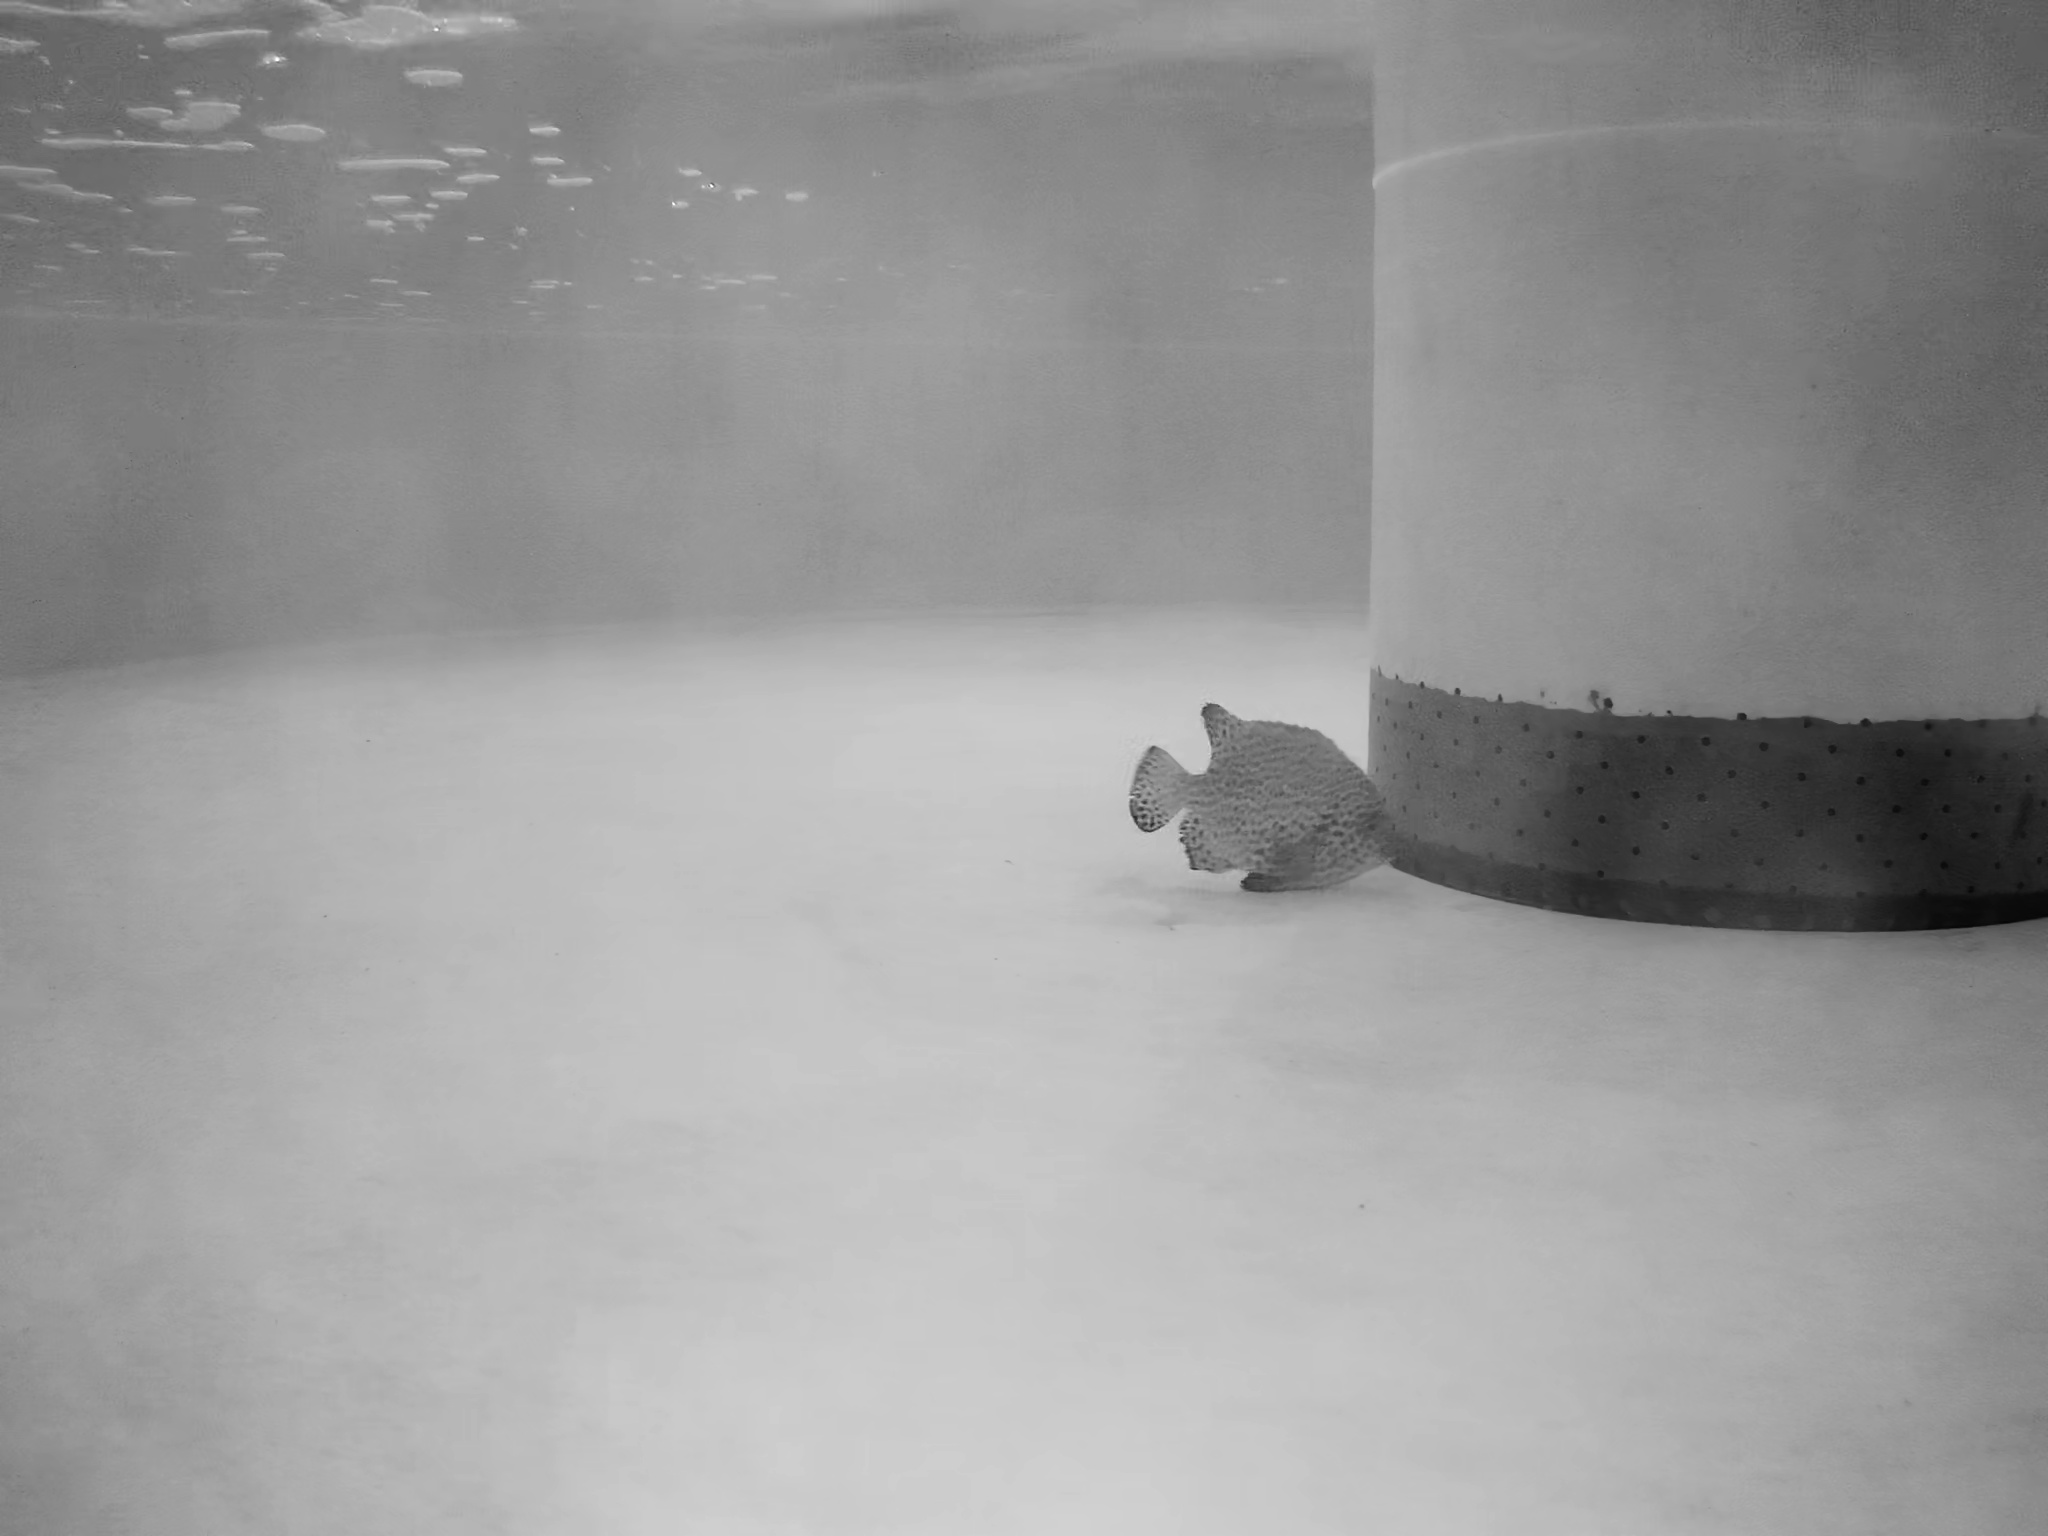fish: (1127, 705, 1403, 899)
